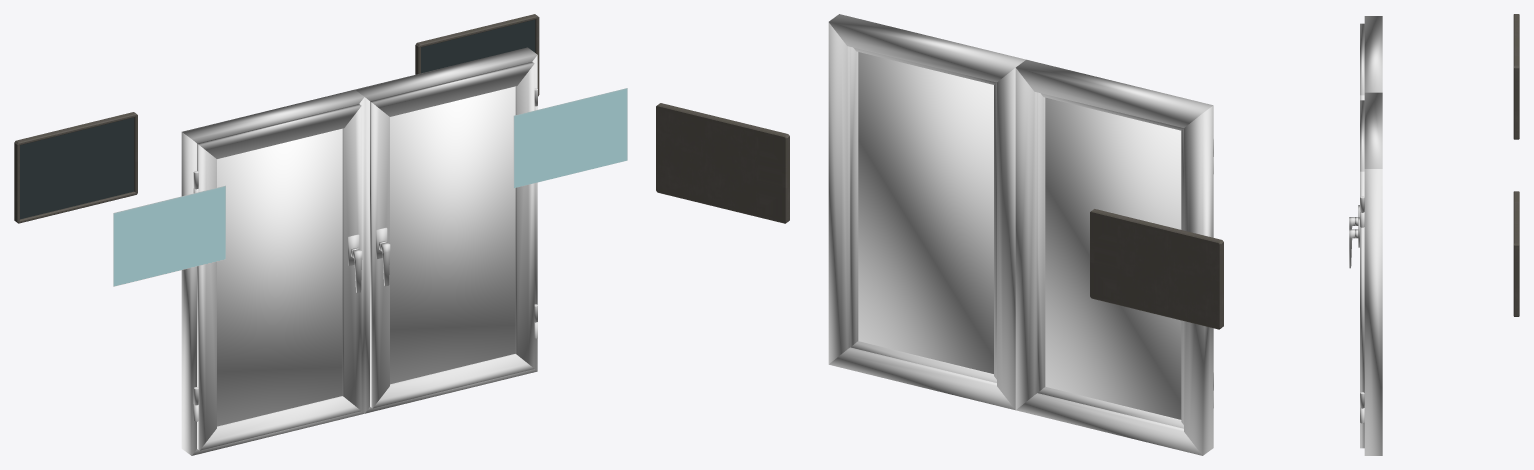
Rendered from double_window.glb.
3 renders of one model, left to right at view 1: azimuth 30°, elevation 25°; view 2: azimuth 150°, elevation 25°; view 3: azimuth 270°, elevation 25°, orthographic. The views are drawn at different scales.
Visible parts, largest first — view 1: Simple White Double Window, Solid 25, Blender Bros Sci-Fi UI Pack_009, Blender Bros Sci-Fi UI Pack_018; view 2: Simple White Double Window, Solid 25; view 3: Simple White Double Window, Solid 25.
Boxes of the visible parts, x1,y1,x2,y2 form: Simple White Double Window: (181,47,537,455); Solid 25: (14,14,539,223); Blender Bros Sci-Fi UI Pack_009: (513,88,627,188); Blender Bros Sci-Fi UI Pack_018: (113,185,225,286); Simple White Double Window: (828,14,1213,455); Solid 25: (656,103,1223,329); Simple White Double Window: (1349,16,1382,455); Solid 25: (1513,14,1519,316).
Size of the model in its own units: 2.42 by 1.4 by 0.7626.
6 materials, 3 textured.
